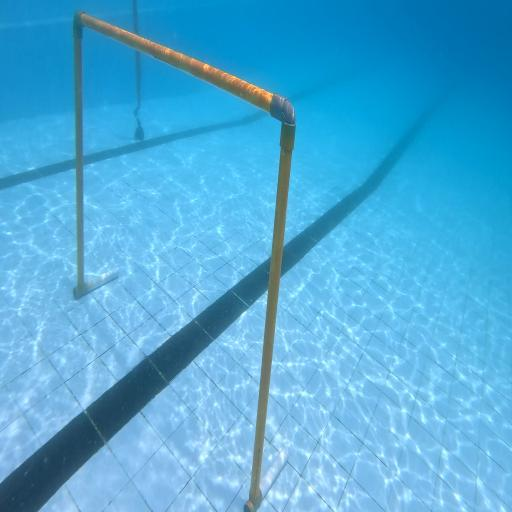gate: (73, 9, 296, 512)
